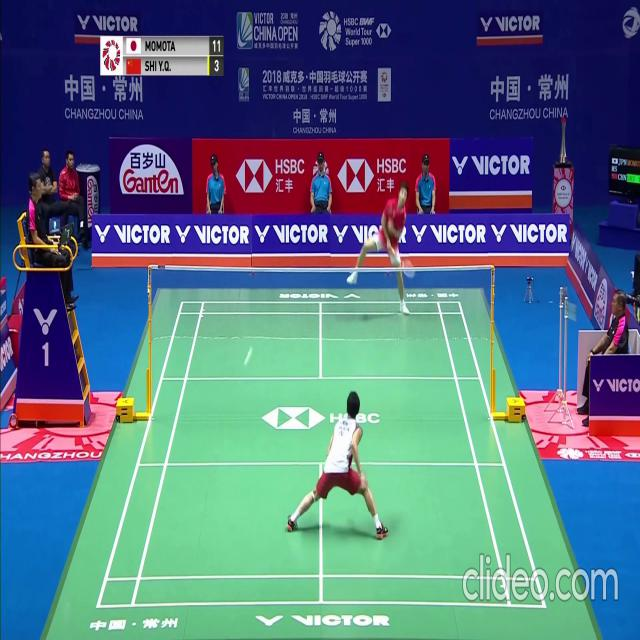Shuttlecock: (243, 358, 248, 365)
